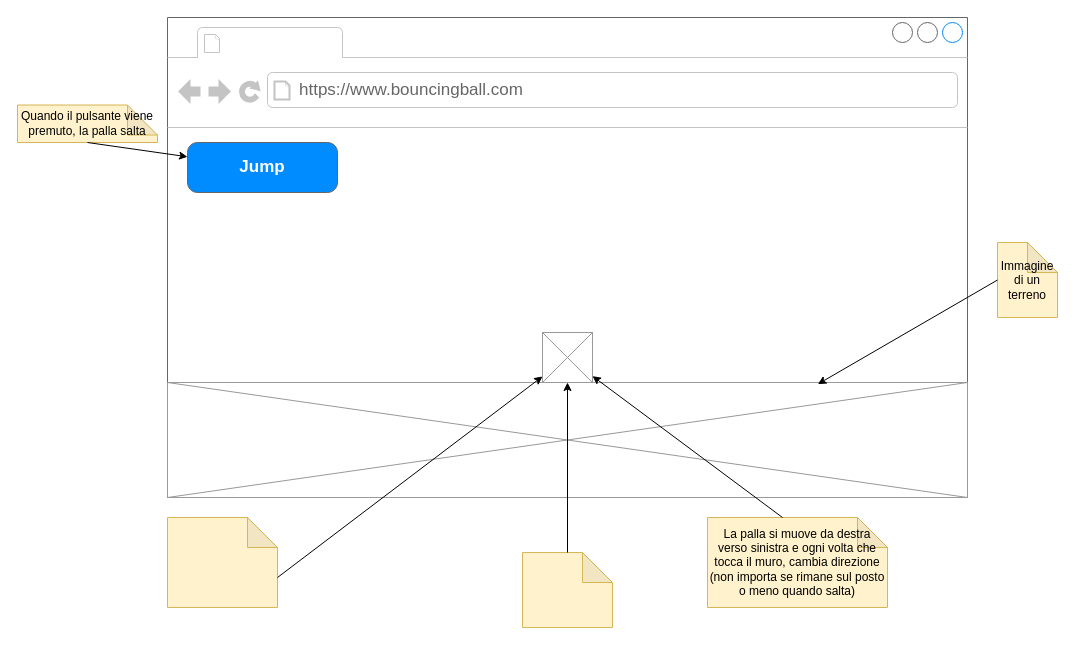
Some shapes in this 1075 by 645 pixel diagram are drawn without their labels. The shapes that lost their labels are listed below. From the top down, each one's centre as x and y in pixels, then its label:
At (282,42): "bouncing ball".
At (222,562): "Quando il mouse passa sulla palla (hover) lo sfondo cambia colore".
At (567,590): "Qui va messa l'immagine di una palla".
